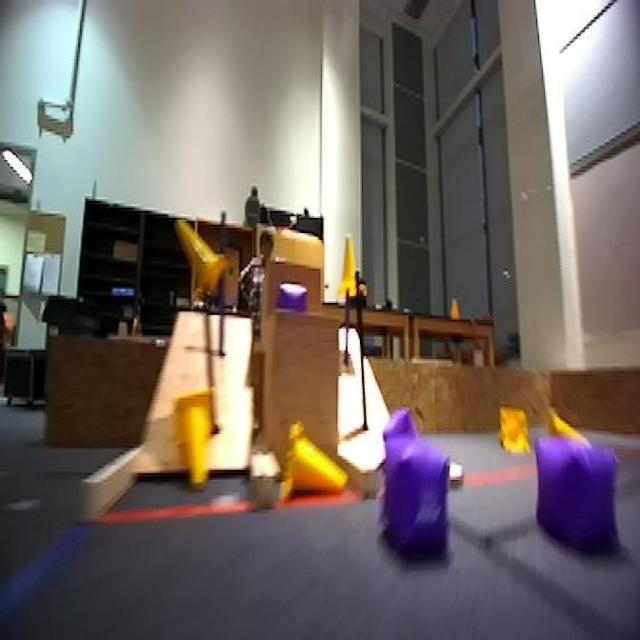frc_cone: (278, 417, 349, 511), (165, 395, 220, 488), (172, 220, 226, 292), (335, 232, 361, 302), (552, 412, 587, 456), (498, 407, 529, 453)
frc_cube: (532, 416, 626, 576), (377, 434, 451, 565), (272, 274, 314, 322), (392, 409, 417, 434)
